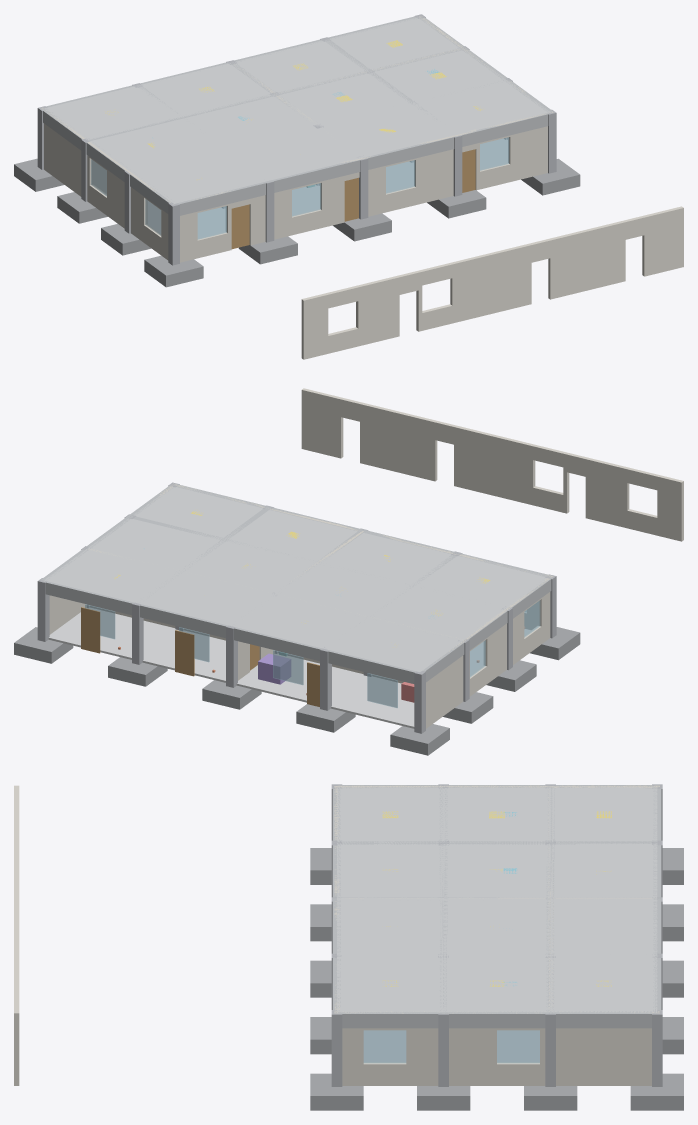
3 views of the same model, one above another, from view 1: azimuth 30°, elevation 25°; view 2: azimuth 150°, elevation 25°; view 3: azimuth 270°, elevation 25° (orthographic). The views are drawn at different scales.
Visible parts, largest first — view 1: slabs (IfcSlab), walls (IfcWall), beams (IfcBeam), foundations (IfcFooting), columns (IfcColumn), glazing (IfcWindow), floors (IfcSlab), doors (IfcDoor); view 2: slabs (IfcSlab), walls (IfcWall), floors (IfcSlab), beams (IfcBeam), foundations (IfcFooting), columns (IfcColumn), glazing (IfcWindow), doors (IfcDoor), equipment (IfcBuildingElementProxy); view 3: slabs (IfcSlab), walls (IfcWall), foundations (IfcFooting), beams (IfcBeam), columns (IfcColumn), glazing (IfcWindow), floors (IfcSlab).
Part boxes in pixels (left/top/right/bottom): slabs (IfcSlab): left=45, top=17, right=549, bottom=203; walls (IfcWall): left=41, top=16, right=683, bottom=359; beams (IfcBeam): left=41, top=16, right=552, bottom=215; foundations (IfcFooting): left=14, top=158, right=580, bottom=287; columns (IfcColumn): left=37, top=14, right=556, bottom=265; glazing (IfcWindow): left=91, top=137, right=509, bottom=239; floors (IfcSlab): left=148, top=138, right=507, bottom=237; doors (IfcDoor): left=231, top=149, right=475, bottom=249; slabs (IfcSlab): left=44, top=487, right=547, bottom=671; walls (IfcWall): left=44, top=388, right=683, bottom=728; floors (IfcSlab): left=48, top=608, right=530, bottom=728; beams (IfcBeam): left=41, top=484, right=551, bottom=683; foundations (IfcFooting): left=14, top=627, right=580, bottom=755; columns (IfcColumn): left=37, top=482, right=556, bottom=733; glazing (IfcWindow): left=85, top=600, right=540, bottom=707; doors (IfcDoor): left=81, top=607, right=319, bottom=706; equipment (IfcBuildingElementProxy): left=258, top=653, right=290, bottom=684; slabs (IfcSlab): left=337, top=786, right=657, bottom=1012; walls (IfcWall): left=14, top=785, right=659, bottom=1085; foundations (IfcFooting): left=310, top=848, right=683, bottom=1110; beams (IfcBeam): left=333, top=785, right=661, bottom=1028; columns (IfcColumn): left=331, top=784, right=662, bottom=1086; glazing (IfcWindow): left=363, top=1030, right=539, bottom=1063; floors (IfcSlab): left=364, top=1030, right=539, bottom=1061.
Size of the model in its own units: 22 by 3.6 by 25.1.
